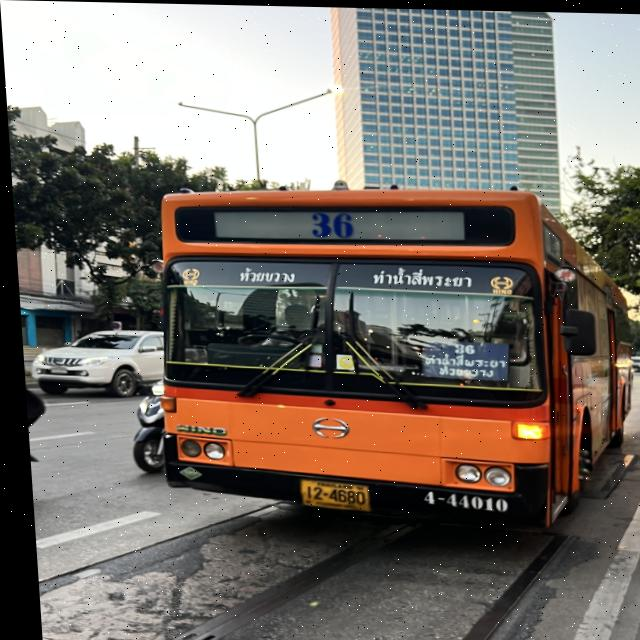BMTA-bus: (128, 187, 630, 526)
Bus Line Number: (296, 204, 360, 243)
Bus Side Number: (409, 486, 507, 516)
Destination Sign: (413, 333, 506, 381)
